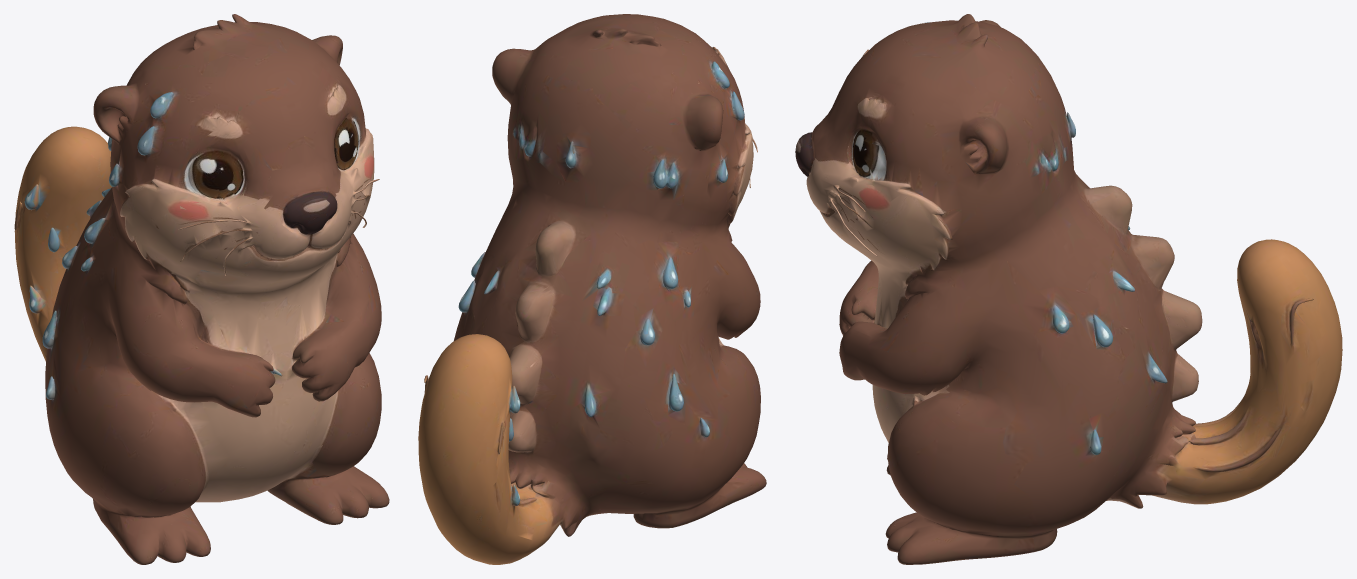
3 views of the same model, side by side, from view 1: azimuth 30°, elevation 25°; view 2: azimuth 150°, elevation 25°; view 3: azimuth 270°, elevation 25° (orthographic). The views are drawn at different scales.
Parts seen in each view (by area): view 1: Mesh_0; view 2: Mesh_0; view 3: Mesh_0.
Part boxes in pixels (x1=…): Mesh_0: x1=14, y1=14, x2=389, y2=564; Mesh_0: x1=418, y1=14, x2=766, y2=564; Mesh_0: x1=795, y1=14, x2=1342, y2=564.
Bounding box in the file's own units: 1.12 × 1.83 × 1.9.
1 material, 1 textured.
